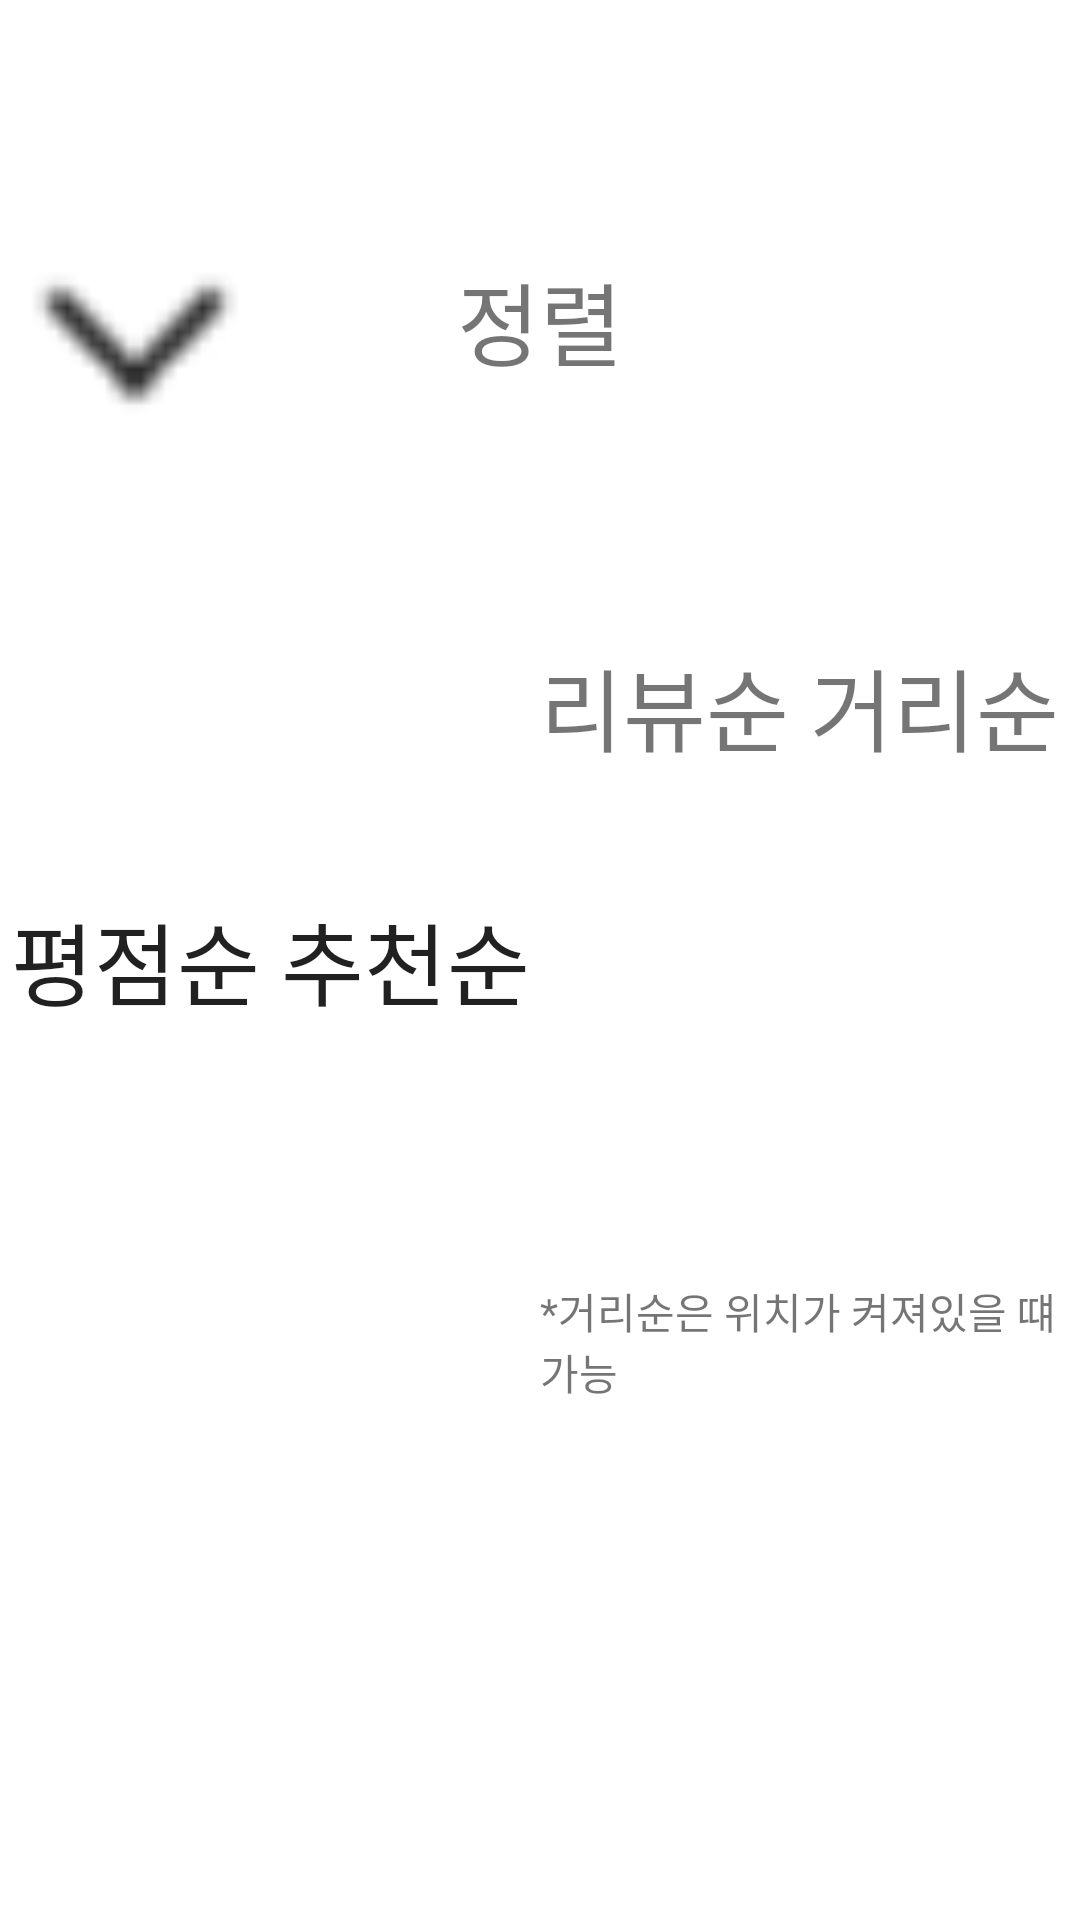

Screen size 1080px x 1920px. Icon name, then its box in pixels as (left=x1, top=y1, right=x2, bottom=y2):
down arrow: (left=39, top=283, right=230, bottom=404)
